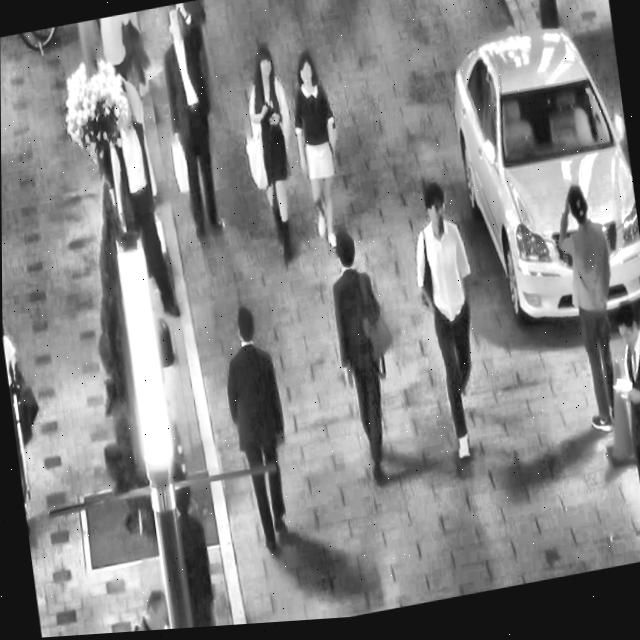light_vehicle: (437, 2, 640, 355)
